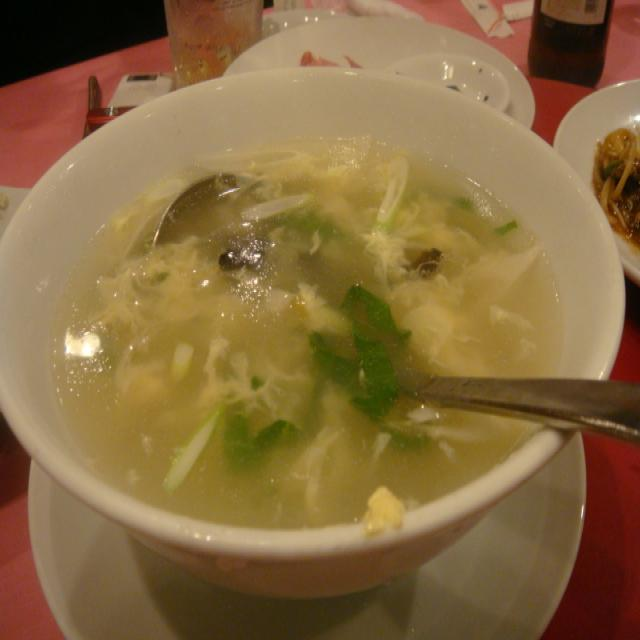汤锅炖物: (0, 62, 640, 638)
